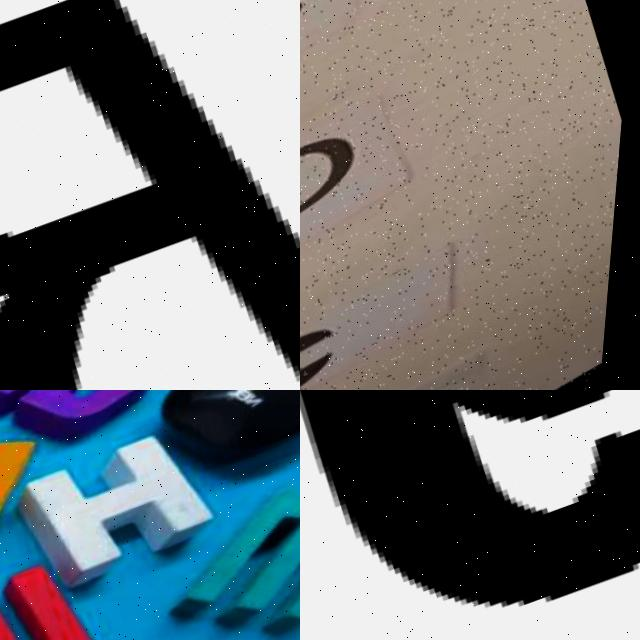0: (300, 98, 414, 279)
3: (300, 302, 385, 390)
9: (300, 390, 640, 640)
G: (0, 390, 181, 455)
H: (5, 410, 243, 602)
L: (0, 424, 84, 617)
M: (141, 458, 300, 640)
R: (0, 0, 300, 390)
